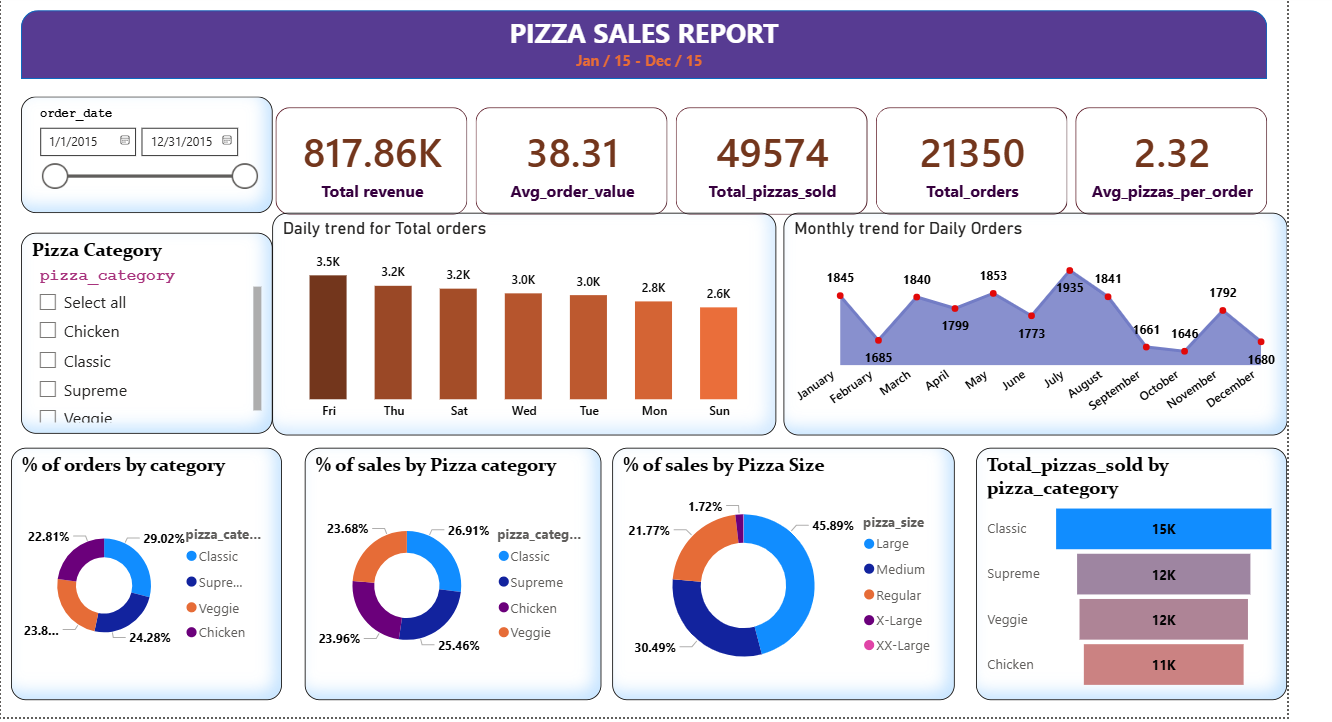

The dashboard page shown, as its layout file describes it:
{"tool":"powerbi","page":{"name":"Sales report","canvas":[1280,720],"ordinal":0},"visuals":[{"type":"cardVisual","fields":{"Data":["pizza_sales.Total reveue","pizza_sales.Avg_order_value","pizza_sales.Total_pizzas_sold","pizza_sales.Total_orders","pizza_sales.Avg_pizzas_per_order"]},"box":[256.3,95.8,1023.8,141.8],"z":0},{"type":"shape","box":[19.9,16.2,1240.2,68.4],"z":1000},{"type":"textbox","box":[452.8,14.9,374.4,52.2],"z":2000},{"type":"textbox","box":[567.2,51,148,33.6],"z":3000},{"type":"columnChart","title":"Daily trend for Total orders","fields":{"Category":["pizza_sales.Order_Day"],"Y":["pizza_sales.Total_orders"]},"box":[269.9,217.7,501.3,221.4],"z":4000},{"type":"areaChart","title":"Monthly trend for Daily Orders","fields":{"Y":["pizza_sales.Total_orders"],"Category":["pizza_sales.Month_num"]},"box":[778.7,217.7,501.3,221.4],"z":5000},{"type":"donutChart","title":"% of sales by Pizza category","fields":{"Y":["pizza_sales.Total reveue"],"Category":["pizza_sales.pizza_category"]},"box":[302.3,451.6,294.8,251.3],"z":6000},{"type":"donutChart","title":"% of sales by Pizza Size","fields":{"Y":["pizza_sales.Total reveue"],"Category":["pizza_sales.pizza_size"]},"box":[608.3,451.6,340.8,251.3],"z":7000},{"type":"funnel","fields":{"Y":["pizza_sales.Total_pizzas_sold"],"Category":["pizza_sales.pizza_category"]},"box":[970.3,451.6,309.7,251.3],"z":7001},{"type":"slicer","title":"Pizza Category","fields":{"Values":["pizza_sales.pizza_category"]},"box":[19.9,237.6,250,200.3],"z":7002},{"type":"slicer","fields":{"Values":["pizza_sales.order_date"]},"box":[19.9,102,250,115.7],"z":7003},{"type":"donutChart","title":"% of orders by category","fields":{"Category":["pizza_sales.pizza_category"],"Y":["pizza_sales.Total_orders"]},"box":[10,451.6,269.9,251.3],"z":7004}]}

Visuals, with their boxes on the page's 1280x720 design canvas (x1, y1, x2, y2). These are canvas units, not pixel positions in the 1332x722 screenshot, which may show the page scaled, cropped or inside an application window:
cardVisual - pizza_sales.Total reveue x pizza_sales.Avg_order_value: rect(256, 96, 1280, 238)
shape: rect(20, 16, 1260, 85)
textbox: rect(453, 15, 827, 67)
textbox: rect(567, 51, 715, 85)
"Daily trend for Total orders" columnChart: rect(270, 218, 771, 439)
"Monthly trend for Daily Orders" areaChart: rect(779, 218, 1280, 439)
"% of sales by Pizza category" donutChart: rect(302, 452, 597, 703)
"% of sales by Pizza Size" donutChart: rect(608, 452, 949, 703)
funnel - pizza_sales.Total_pizzas_sold x pizza_sales.pizza_category: rect(970, 452, 1280, 703)
"Pizza Category" slicer: rect(20, 238, 270, 438)
slicer - pizza_sales.order_date: rect(20, 102, 270, 218)
"% of orders by category" donutChart: rect(10, 452, 280, 703)
